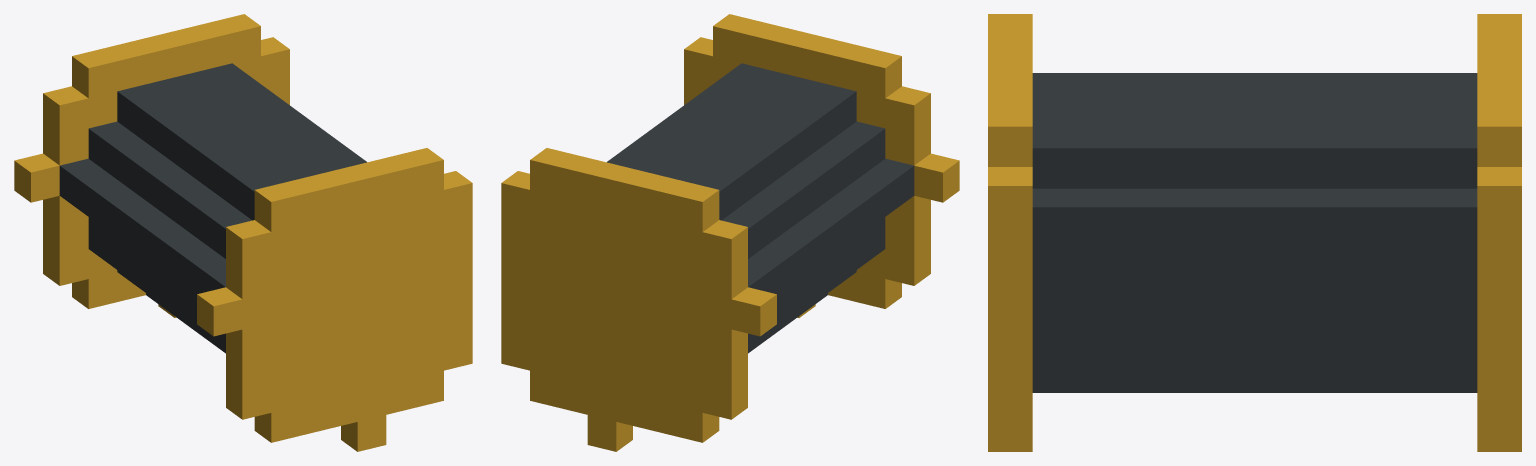
Rendered from hoist_winch.glb.
The picture shows the model from 3 angles, left to right: view 1: azimuth 30°, elevation 25°; view 2: azimuth 150°, elevation 25°; view 3: azimuth 270°, elevation 25°; orthographic projection. The views are drawn at different scales.
Parts seen in each view (by area): view 1: body:compound; view 2: body:compound; view 3: body:compound.
Boxes of the visible parts, x1,y1,x2,y2 form: body:compound: [14, 14, 472, 451]; body:compound: [501, 14, 959, 451]; body:compound: [988, 14, 1521, 451].
Bounding box in the file's own units: 0.2812 × 0.2812 × 0.375.
